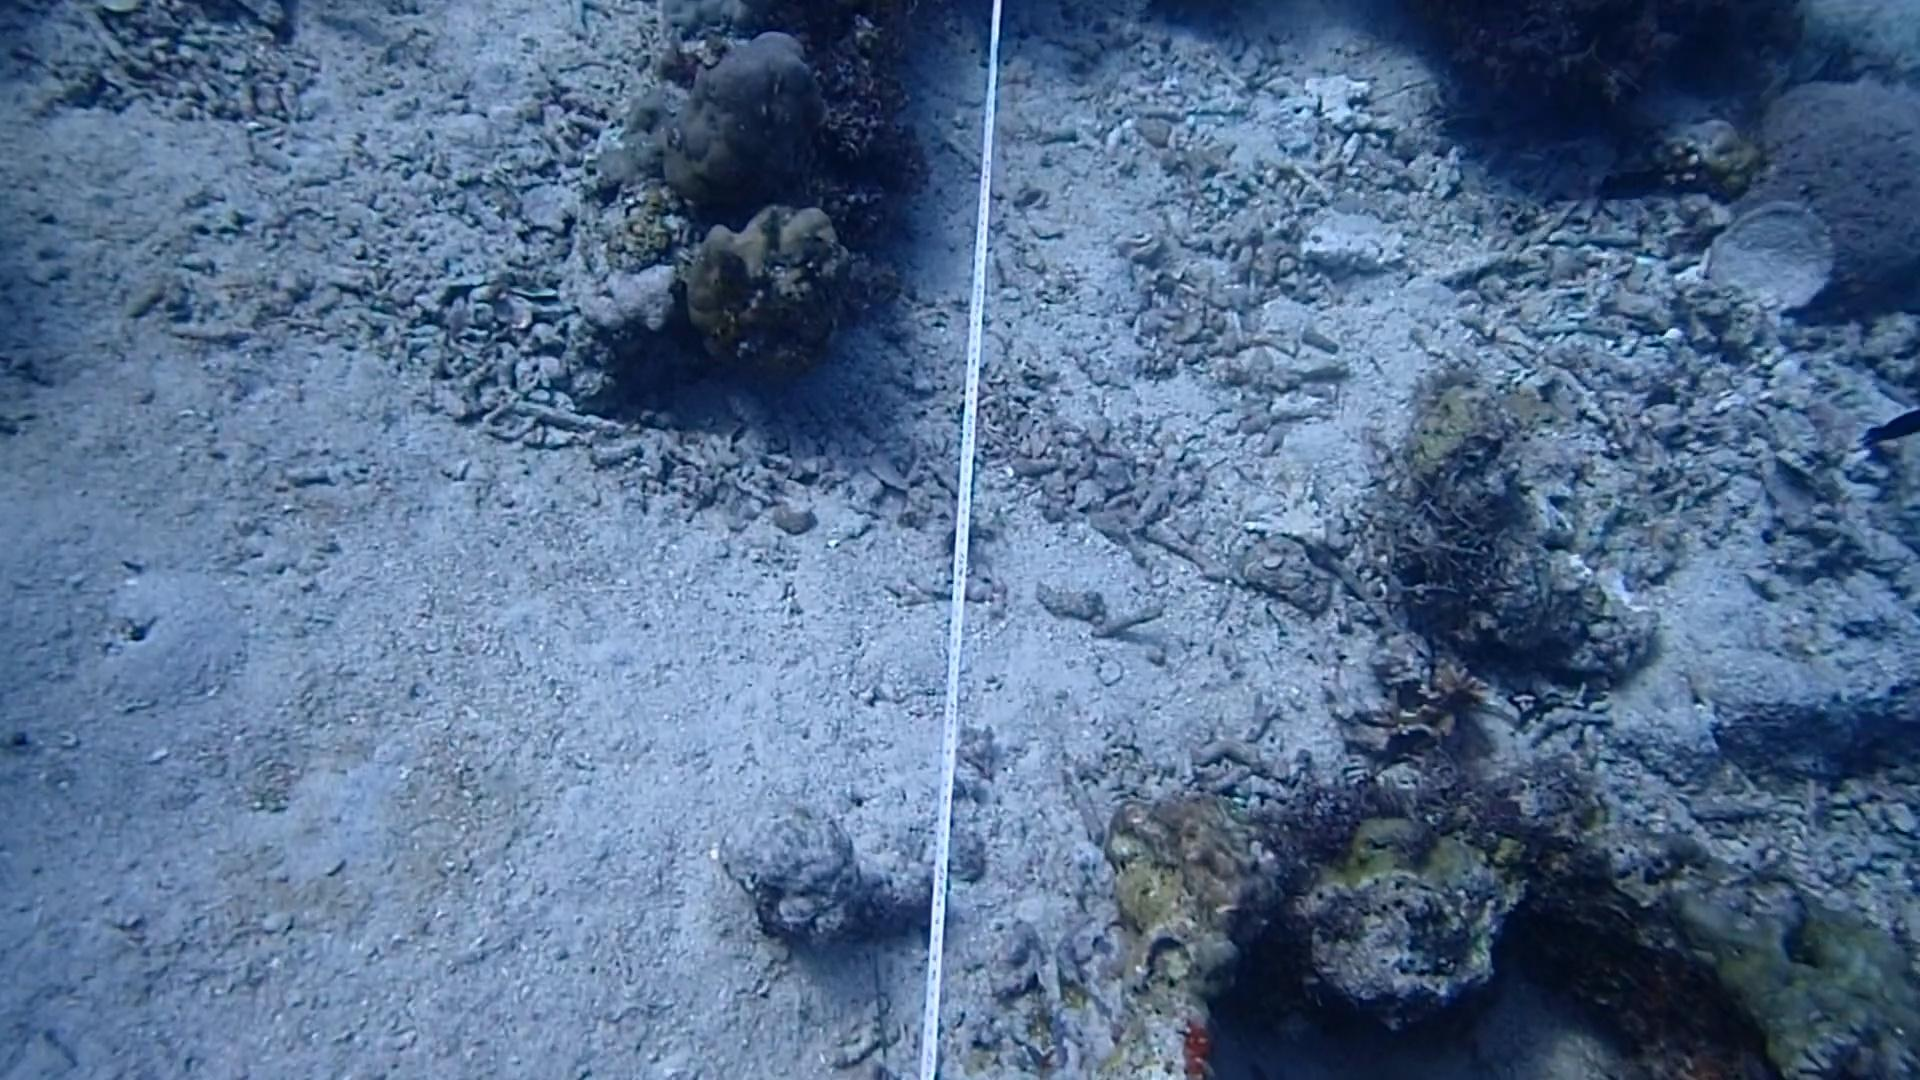Dark Fish: (1585, 157, 1677, 216), (1847, 398, 1920, 455)
